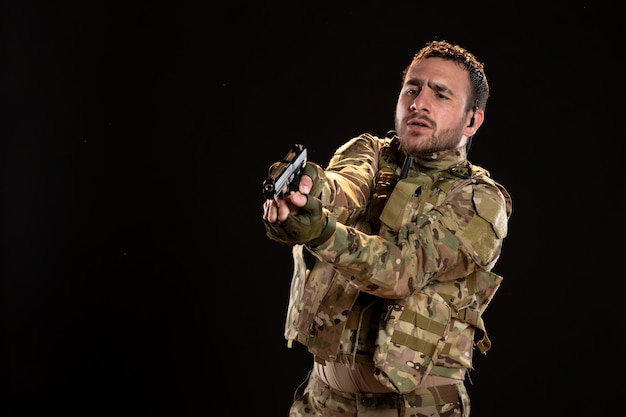gun: (260, 141, 308, 202)
